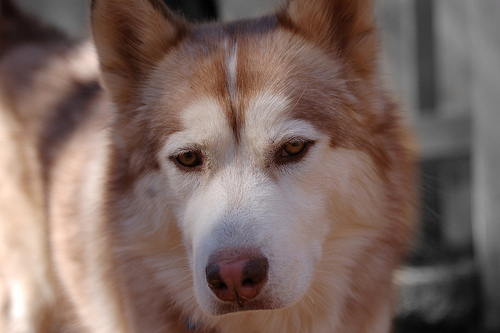dog: (0, 0, 422, 332)
